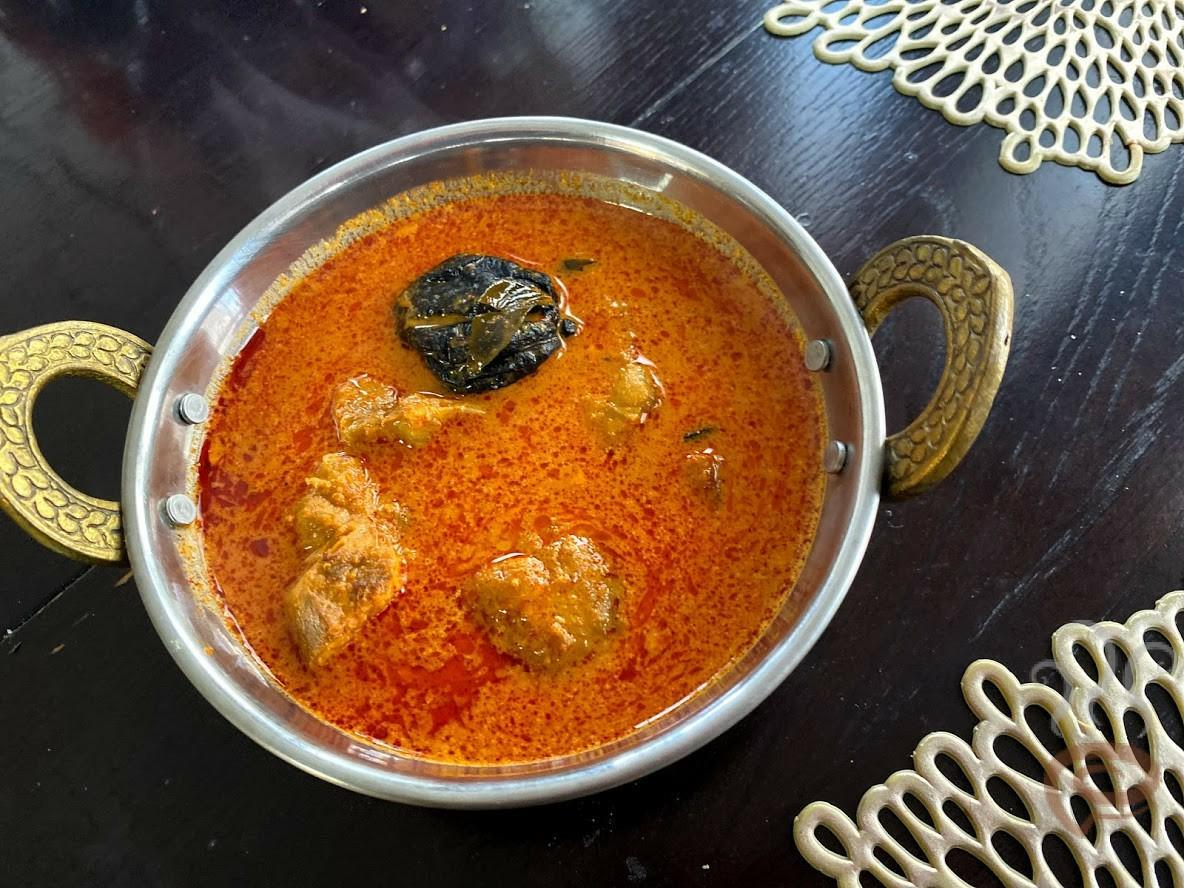FishCurry: (199, 188, 825, 763)
